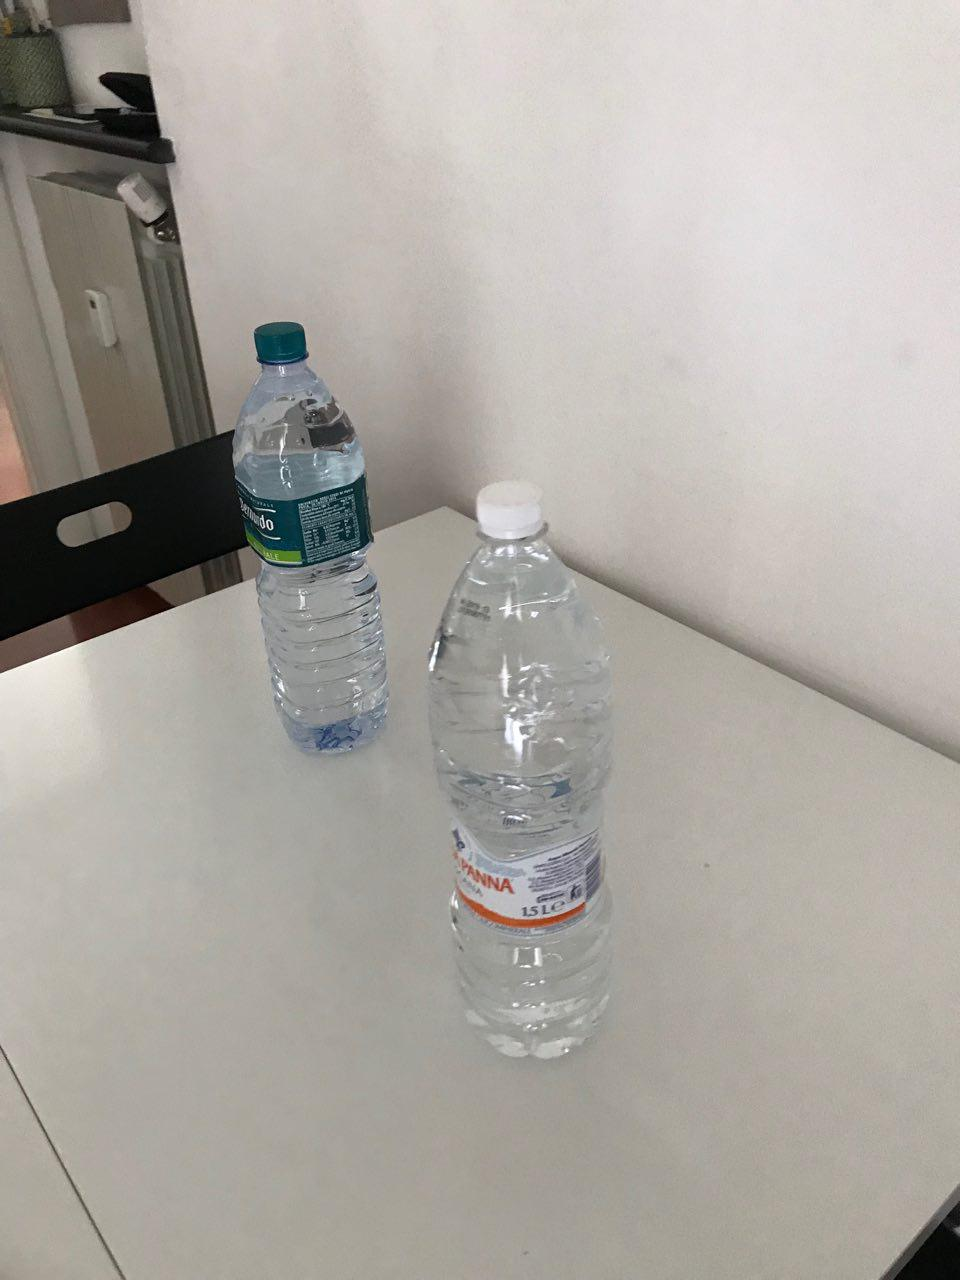san_bernardo: (230, 321, 390, 755)
